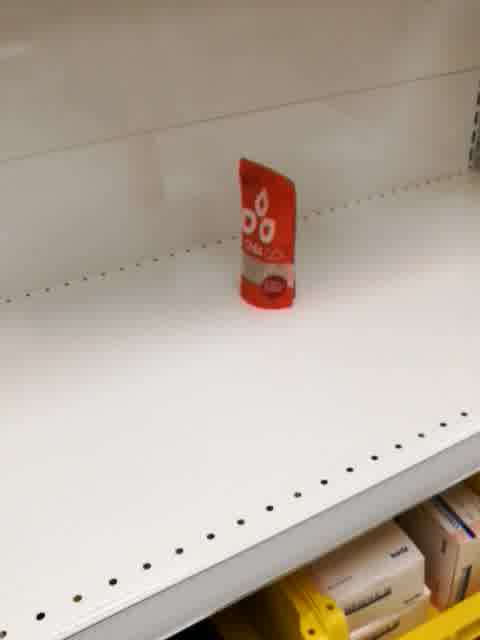whitechia: (235, 156, 299, 314)
